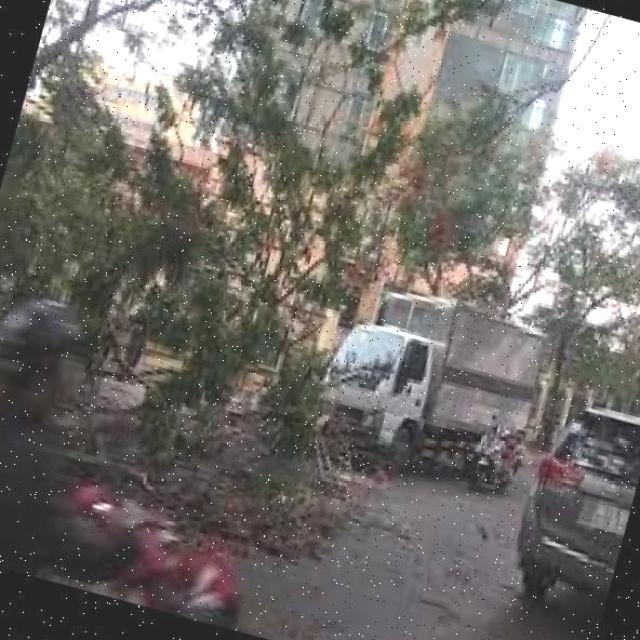fallen_object: (0, 201, 422, 594)
